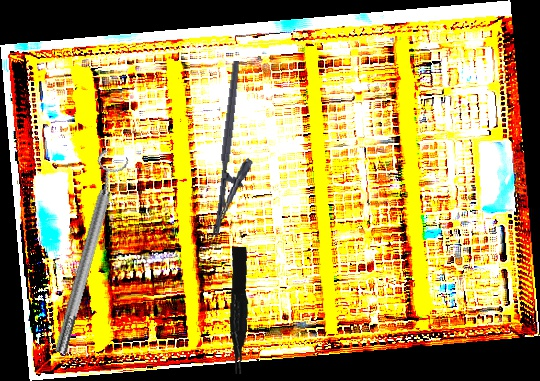Fixation Ring: (42, 148, 133, 358)
Needle Holder: (210, 60, 265, 241)
Tissue Forceps: (223, 246, 253, 375)
